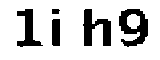1: (15, 5, 44, 52)
9: (120, 7, 156, 53)
h: (80, 6, 119, 53)
i: (50, 6, 71, 54)
